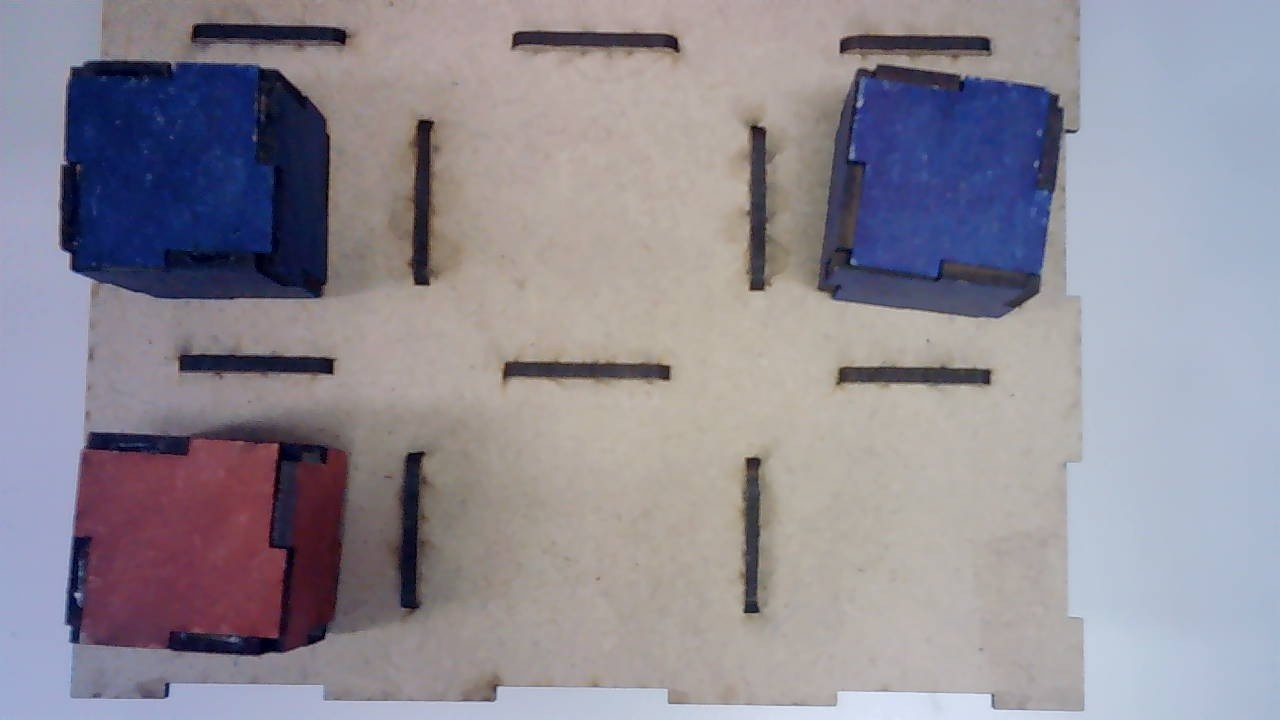blue box: (53, 60, 332, 297), (818, 65, 1065, 322)
red box: (60, 429, 357, 653)
